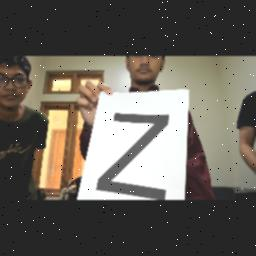z: (94, 110, 182, 200)
